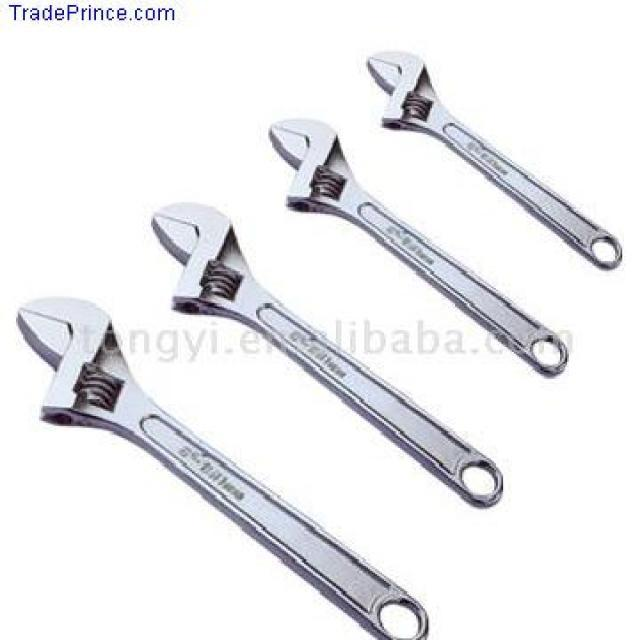wrench: (8, 293, 440, 640), (150, 196, 514, 511), (262, 104, 577, 382), (356, 32, 628, 272)
